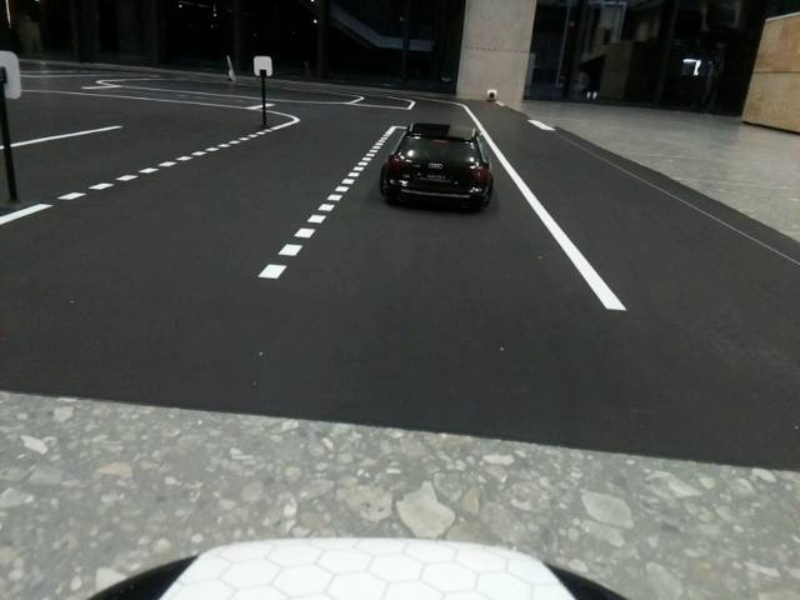car: (390, 120, 506, 210)
